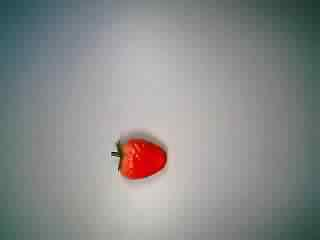strawberry: (100, 123, 166, 189)
